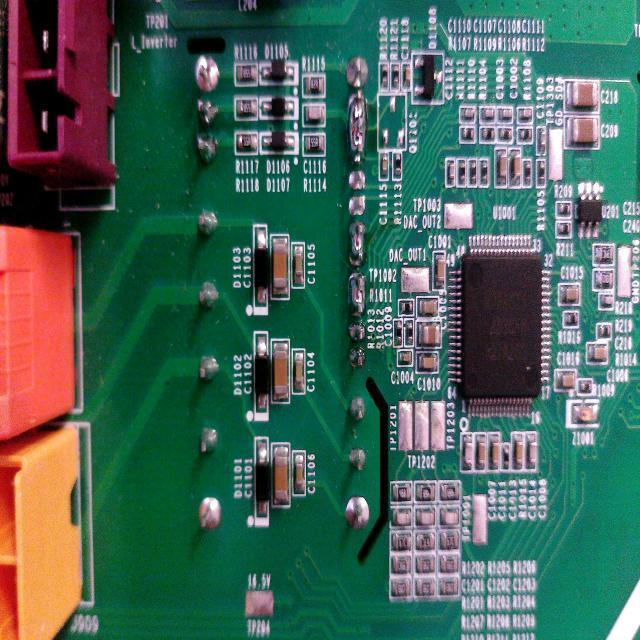Soldering shorted: (346, 90, 368, 164), (343, 270, 370, 322), (345, 218, 368, 268)
